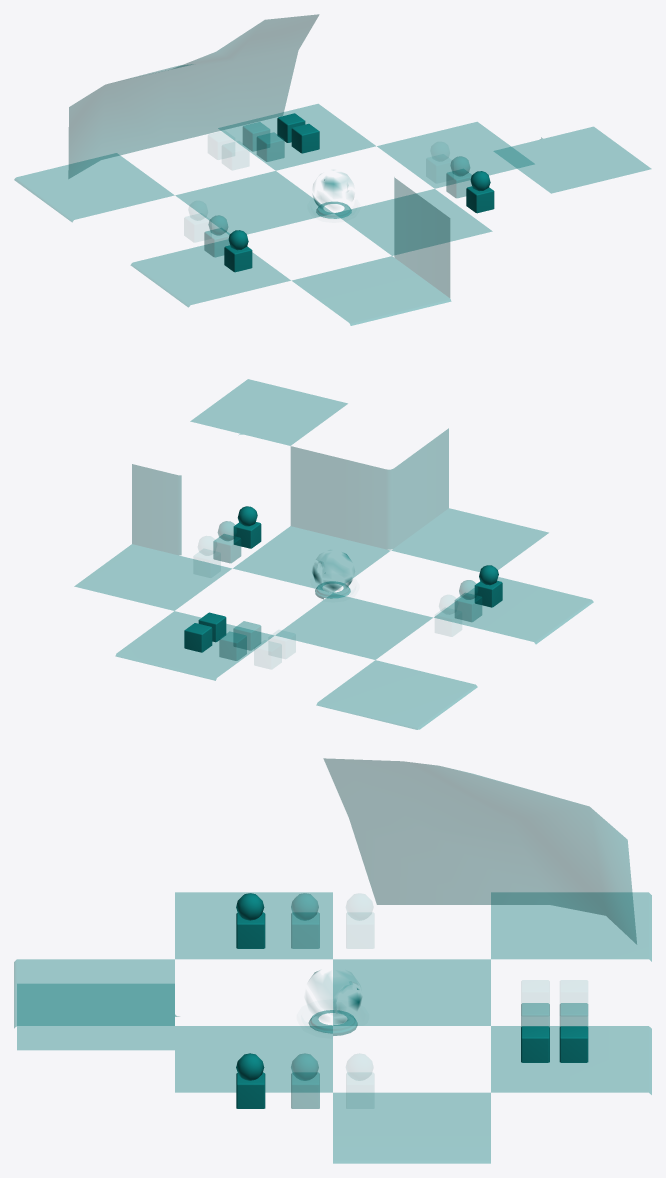
The picture shows the model from 3 angles, top to bottom: view 1: azimuth 30°, elevation 25°; view 2: azimuth 150°, elevation 25°; view 3: azimuth 270°, elevation 25°; orthographic projection. The views are drawn at different scales.
Parts seen in each view (by area): view 1: Cylinder.005; view 2: Cylinder.005; view 3: Cylinder.005.
Part boxes in pixels (x1,y1,x2,y2): Cylinder.005: (14,14,650,325); Cylinder.005: (74,379,593,729); Cylinder.005: (14,758,651,1163).
Size of the model in its own units: 22.14 by 7.15 by 22.14.
